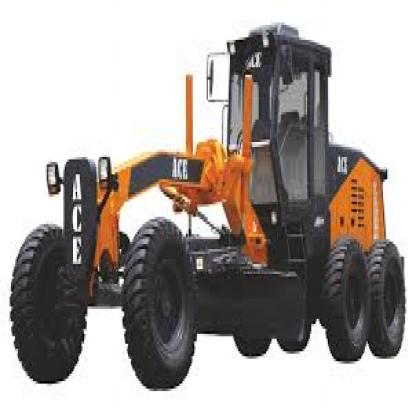bull_dozer/loader/grader: (8, 15, 415, 389)
